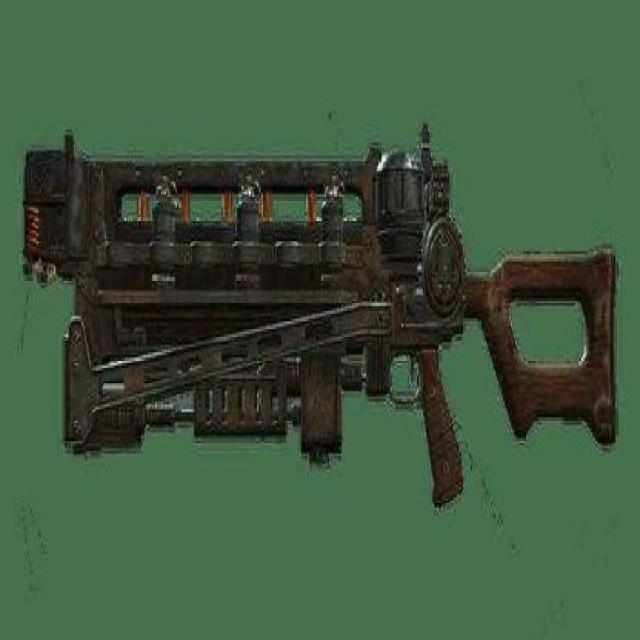heavy-weapon: (25, 119, 622, 508)
